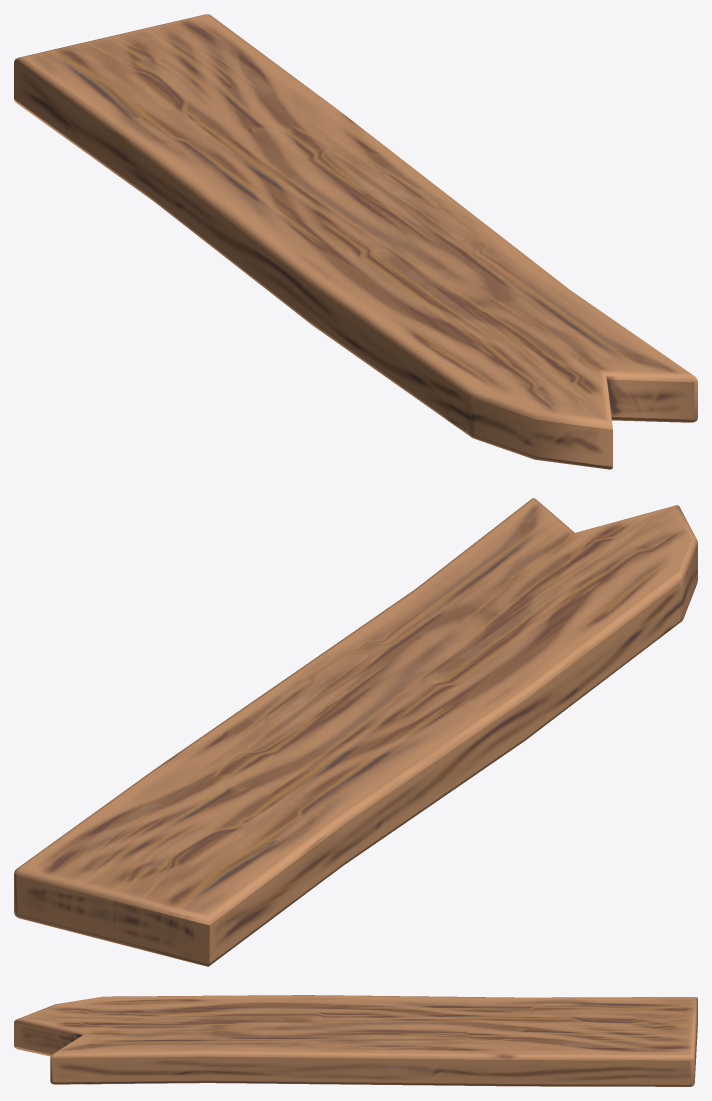
File: Tabua_02.fbx
3 views of the same model, one above another, from view 1: azimuth 30°, elevation 25°; view 2: azimuth 150°, elevation 25°; view 3: azimuth 270°, elevation 25° (orthographic). The views are drawn at different scales.
Parts seen in each view (by area): view 1: Tabua_03; view 2: Tabua_03; view 3: Tabua_03.
Part boxes in pixels (bbox=[...]): Tabua_03: bbox=[14, 14, 697, 469]; Tabua_03: bbox=[14, 498, 697, 966]; Tabua_03: bbox=[14, 995, 697, 1086].
Size of the model in its own units: 32.63 by 7.58 by 149.
